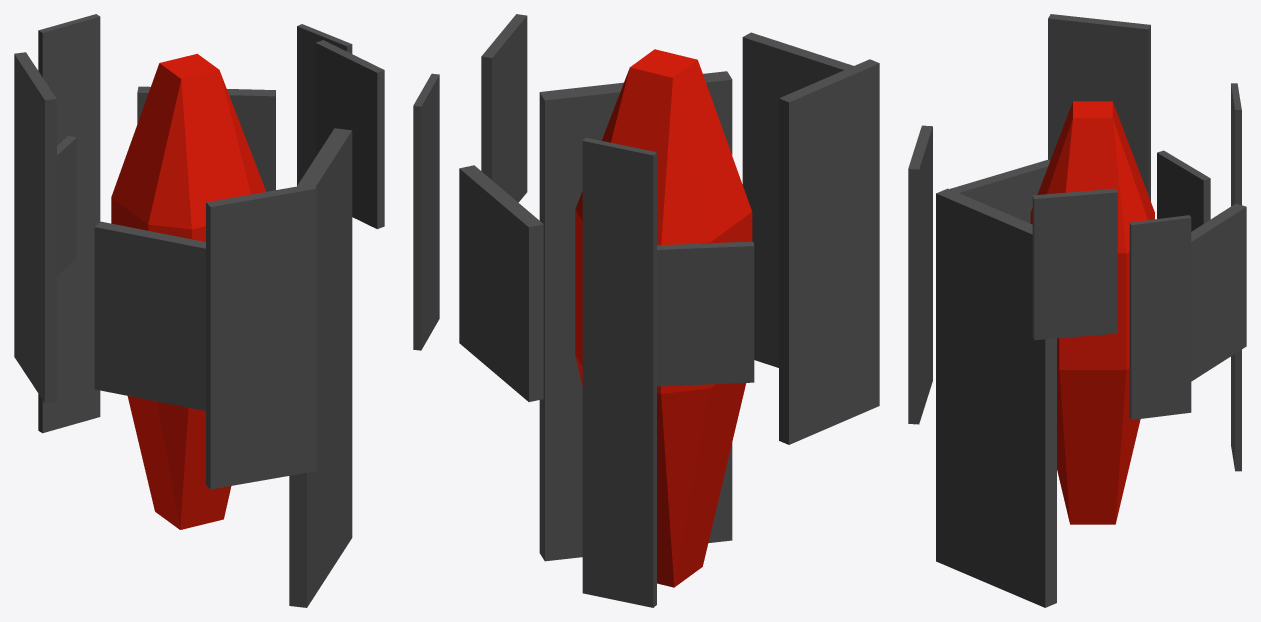
The model's file is heavy.fbx.
3 views of the same model, side by side, from view 1: azimuth 30°, elevation 25°; view 2: azimuth 150°, elevation 25°; view 3: azimuth 270°, elevation 25° (orthographic). The views are drawn at different scales.
Visible parts, largest first — view 1: Heavy; view 2: Heavy; view 3: Heavy.
Boxes of the visible parts, x1,y1,x2,y2 form: Heavy: (14, 14, 384, 607); Heavy: (413, 14, 879, 607); Heavy: (908, 14, 1246, 607).
Size of the model in its own units: 371 by 514 by 343.
